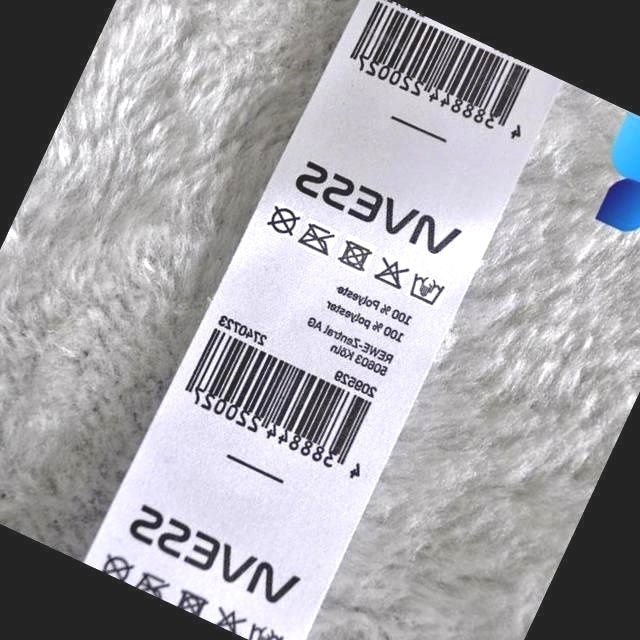DN_bleach: (370, 256, 406, 292)
DN_dry_clean: (267, 202, 300, 239)
DN_iron: (294, 221, 332, 258)
DN_tumble_dry: (337, 239, 371, 276)
hand_wash: (410, 269, 443, 306)
